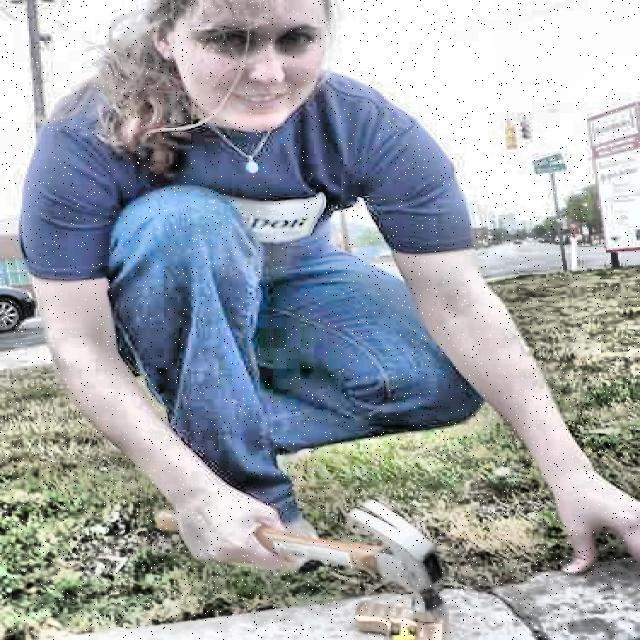hammer: (151, 504, 453, 621)
